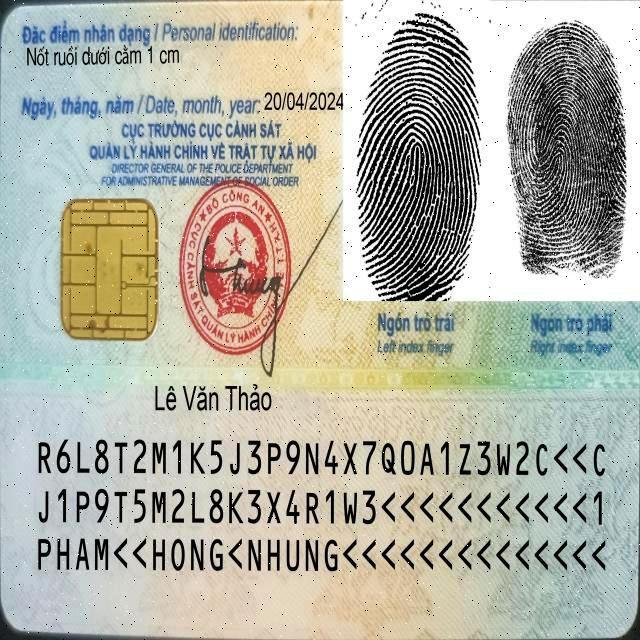features: (23, 44, 187, 70)
finger_print: (495, 3, 640, 361), (350, 2, 488, 362)
issue_date: (261, 84, 346, 118)
